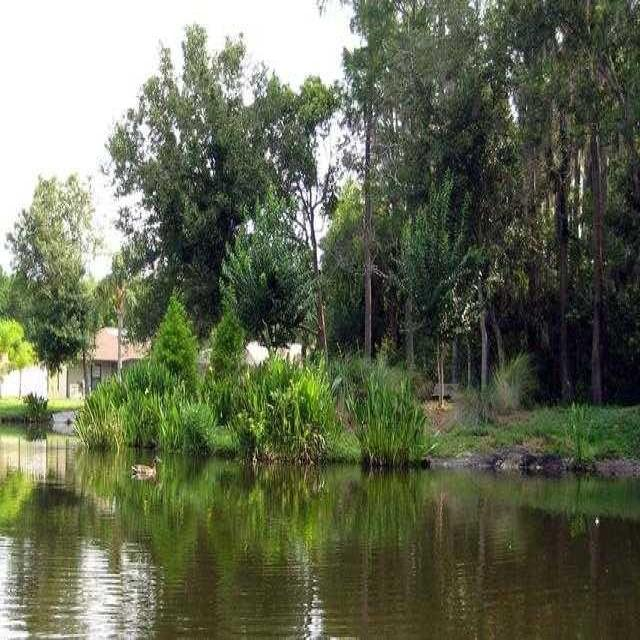Ponds: (3, 411, 640, 637)
